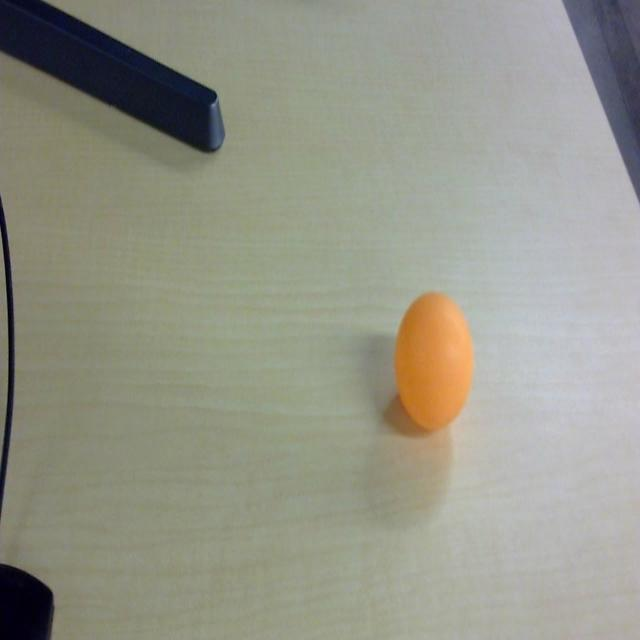ball: (392, 290, 476, 434)
